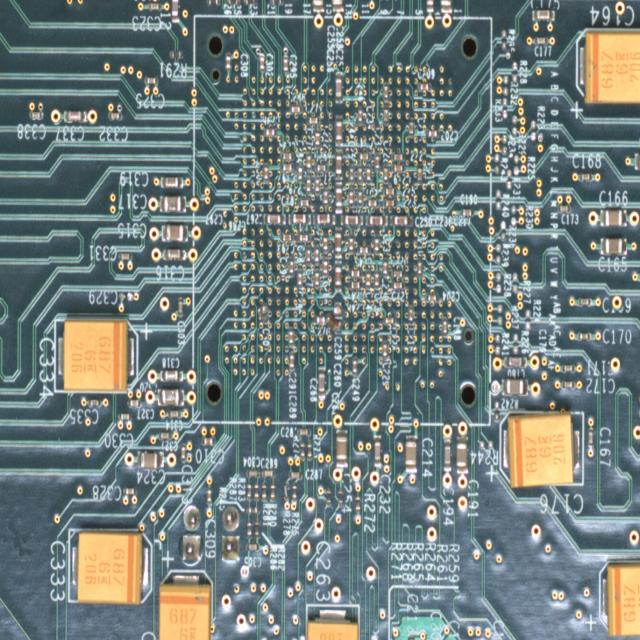capacitor: (404, 435, 418, 473), (501, 378, 528, 397), (335, 429, 348, 468), (600, 237, 627, 255), (157, 388, 184, 406), (599, 209, 627, 226), (161, 224, 187, 242), (456, 436, 468, 474), (136, 451, 164, 467), (159, 195, 186, 211), (63, 109, 86, 123), (389, 214, 413, 227), (312, 212, 336, 225), (163, 247, 185, 261), (325, 314, 340, 334), (160, 369, 183, 382), (364, 214, 388, 226), (262, 213, 286, 225), (288, 212, 310, 225), (340, 214, 363, 226), (532, 9, 554, 21), (160, 176, 182, 188), (373, 434, 381, 467), (334, 181, 342, 214), (334, 226, 342, 258), (334, 260, 342, 292), (443, 439, 451, 471), (334, 71, 342, 103), (503, 356, 526, 367), (334, 149, 342, 179), (318, 366, 325, 399), (335, 115, 342, 146), (257, 304, 267, 324), (170, 0, 179, 22), (356, 105, 364, 126), (262, 127, 278, 137), (356, 152, 372, 162), (440, 0, 452, 13), (330, 0, 343, 12), (311, 0, 324, 12), (391, 151, 405, 162), (147, 1, 162, 11), (28, 110, 43, 120), (107, 111, 122, 121), (365, 198, 380, 208), (279, 232, 294, 242), (305, 150, 312, 171), (365, 163, 372, 184), (313, 269, 320, 290), (312, 163, 328, 172), (144, 75, 158, 85), (578, 172, 592, 182), (158, 431, 172, 441), (180, 442, 187, 462), (262, 162, 269, 182), (280, 162, 294, 172), (313, 175, 320, 195), (382, 198, 396, 208), (296, 232, 310, 242), (374, 269, 381, 289), (561, 364, 575, 374), (561, 378, 575, 388), (442, 315, 448, 338), (296, 428, 311, 437), (245, 542, 260, 551), (224, 51, 231, 70), (352, 355, 358, 377), (348, 185, 354, 207), (408, 116, 414, 138), (382, 257, 388, 279), (127, 398, 140, 408), (391, 162, 404, 172), (289, 104, 303, 113), (633, 152, 640, 170), (576, 331, 590, 340), (557, 204, 571, 213), (118, 252, 132, 261), (122, 486, 136, 495), (246, 469, 260, 478), (261, 469, 275, 478), (288, 470, 302, 479), (306, 116, 320, 125), (314, 128, 320, 149), (322, 186, 328, 207), (382, 81, 388, 102), (357, 163, 363, 184), (382, 186, 396, 195), (322, 233, 328, 254), (314, 245, 320, 266), (288, 256, 294, 277), (296, 267, 302, 288), (356, 245, 370, 254), (347, 280, 361, 289), (390, 269, 404, 278), (390, 280, 404, 289), (382, 315, 396, 324), (282, 54, 288, 74), (416, 82, 431, 90), (426, 128, 438, 138), (587, 427, 593, 447), (279, 152, 294, 160), (382, 105, 388, 125), (374, 152, 380, 172), (382, 164, 388, 184), (305, 246, 311, 266), (322, 257, 328, 277), (364, 269, 370, 289), (534, 36, 547, 45), (425, 292, 438, 301), (460, 208, 473, 217), (201, 436, 214, 445), (206, 486, 212, 505), (578, 298, 592, 306), (297, 198, 311, 206), (348, 233, 353, 255), (296, 165, 302, 183), (305, 176, 311, 194), (348, 163, 354, 181), (288, 327, 293, 348), (357, 187, 362, 208), (382, 338, 387, 359), (408, 304, 413, 325), (417, 257, 422, 278), (259, 52, 264, 72), (417, 164, 422, 184), (117, 413, 131, 420), (167, 410, 181, 417), (348, 269, 362, 276), (426, 0, 434, 12), (88, 398, 100, 406), (289, 352, 294, 370), (374, 235, 379, 253), (312, 316, 324, 323), (178, 296, 182, 317)
component text: (81, 542, 127, 591), (522, 429, 566, 475), (68, 332, 112, 378), (600, 45, 640, 88), (621, 577, 640, 623)
electrolytic capacitor: (498, 409, 584, 488), (67, 528, 152, 604), (54, 318, 138, 393), (575, 27, 640, 103), (598, 559, 640, 637)
pads: (494, 270, 502, 295), (494, 241, 502, 264), (492, 153, 500, 175), (511, 271, 518, 295), (496, 303, 503, 327), (505, 168, 512, 191), (494, 188, 501, 211), (478, 439, 494, 449), (512, 154, 519, 176), (511, 61, 518, 82), (501, 97, 508, 118), (529, 120, 536, 141), (499, 219, 506, 240), (524, 308, 531, 329), (494, 334, 501, 355), (500, 28, 506, 51), (512, 332, 518, 355), (493, 399, 499, 422), (511, 114, 517, 136), (510, 204, 516, 226), (502, 75, 508, 96), (501, 132, 506, 155)
pins: (180, 504, 201, 562), (221, 505, 240, 562)
resistor: (353, 493, 361, 512), (306, 441, 313, 462), (168, 49, 184, 58), (245, 505, 260, 514), (299, 440, 305, 461), (253, 518, 260, 536), (246, 518, 252, 538), (291, 483, 297, 501), (326, 486, 331, 507), (261, 481, 266, 501), (246, 481, 251, 501), (205, 0, 221, 5), (338, 487, 342, 506), (270, 482, 274, 500), (254, 482, 258, 500), (242, 0, 258, 4), (268, 0, 283, 4), (225, 0, 240, 3)
